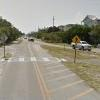Crosswalk: (4, 50, 83, 71)
